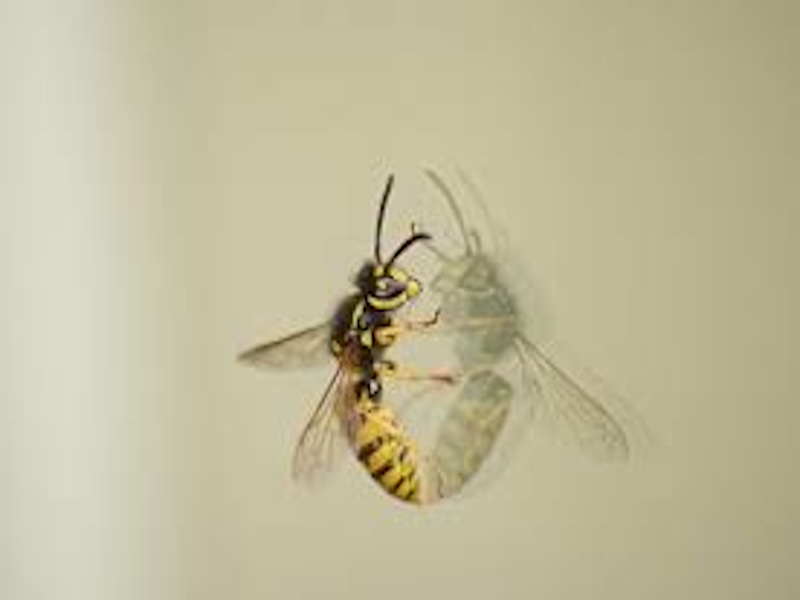chax: (243, 165, 485, 523)
